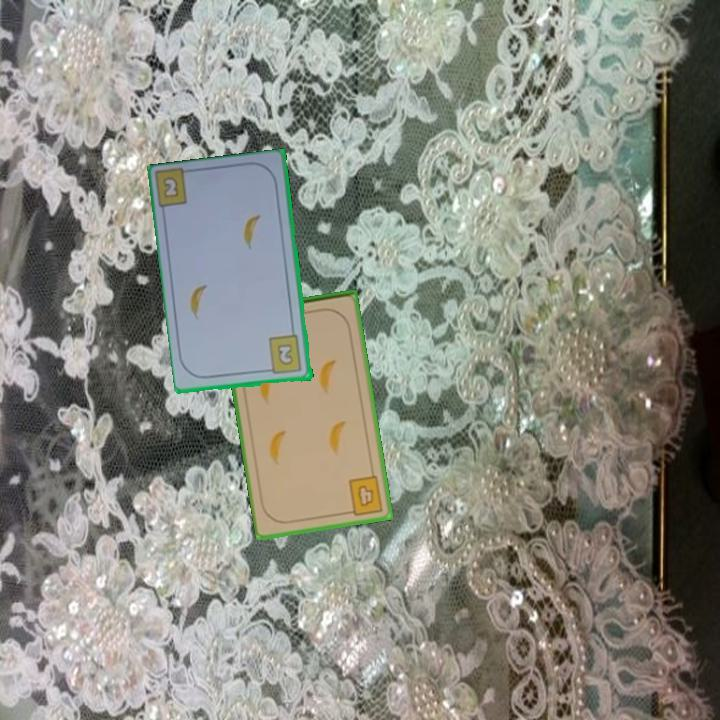2b: (263, 332, 305, 377), (162, 175, 180, 199)
4b: (343, 472, 386, 518)
